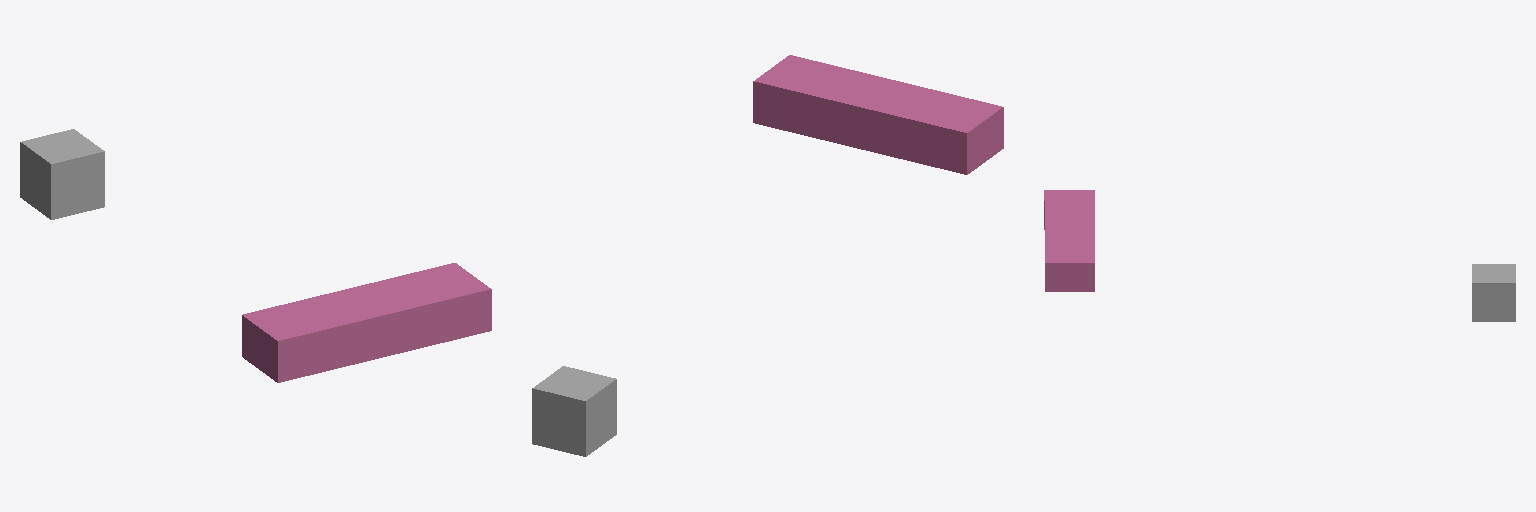
URDF robot description (polydog):
<?xml version="1.0"?>

<robot name="polydog">

  <!-- Define materials (optional) -->
  <material name="grey">
    <color rgba="0.5 0.5 0.5 1"/>
  </material>
  <material name="red">
    <color rgba="0.2 1 0.2 1"/>
  </material>
  <!-- Define the body link -->
  <link name="dummy0">
  </link>
  <link name="dummy1">
  </link>
  <link name="dummy2">
  </link>
  <link name="dummy3">
  </link>
  <link name="dummy4">
  </link>
  <link name="body">
    <visual>
      <geometry>
        <mesh filename="package://polydog_description/meshes/body.obj" scale="1 1 1"/>
      </geometry>
      <origin xyz="0 0 0" rpy="0 -1.5708 0"/>
      <material name="red"/>
    </visual>
    <collision>
      <geometry>
        <mesh filename="package://polydog_description/meshes/body_collision.obj" scale="1 1 1"/>
      </geometry>
      <origin xyz="0 0 0" rpy="0 -1.5708 0"/>
    </collision>
    <inertial>
       <mass value="3.568279"/>
       <origin xyz="0 0 0"/>
       <inertia ixx="+0.01664" ixy="+2.083e-06" ixz="+7.089e-06" iyy="+0.01339" iyz="-1.299e-05" izz="+0.00358"/>
     </inertial>
  </link>
  
    <link name="depth_camera_link">
    <visual name="depth_camera">
      <origin xyz="0 0 0" rpy="0 0 0"/>
      <geometry>
        <box size="0.0235 0.08 0.015" />
      </geometry>
    </visual>
    <collision name="depth_camera">
      <origin xyz="0 0 0" rpy="0 0 0"/>
      <geometry>
        <box size="0.0235 0.08 0.015" />
      </geometry>
    </collision>

    <inertial>
      <mass value="1e-5" />
      <origin xyz="0 0 0" rpy="0 0 0"/>
      <inertia ixx="1.0" ixy="1e-6" ixz="1e-6" iyy="1.0" iyz="1e-6" izz="1.0" />
    </inertial>
  </link>
  
    <link name="imu_sensor_link">
        <collision>
            <origin xyz="0 0 0" rpy="0 0 0"/>
            <geometry>
                <box size="0.02 0.02 0.02"/>
            </geometry>
        </collision>
        <visual>
            <origin xyz="0 0 0" rpy="0 0 0"/>
            <geometry>
                <box size="0.02 0.02 0.02"/>
            </geometry>
        </visual>
        <inertial>
            <mass value="0.001" />
            <origin xyz="0 0 0" rpy="0 0 0"/>
            <inertia ixx="0.00000015" ixy="0" ixz="0" iyy="0.00000015" iyz="0" izz="0.00000015" />
        </inertial>
    </link>
    
  <!-- Define the femur link -->
  <link name="case1">
    <visual>
      <geometry>
        <mesh filename="package://polydog_description/meshes/case.obj" scale="1 1 1"/>
      </geometry>
      <material name="grey"/>
      <origin xyz="0 0 0" rpy="0 0 1.5708"/>
    </visual>
    <collision>
      <geometry>
        <mesh filename="package://polydog_description/meshes/case_collision.obj" scale="1 1 1"/>
      </geometry>
      <origin xyz="0 0 0" rpy="0 0 1.5708"/>
    </collision>
    <inertial>
      <mass value="0.189739"/>
      <origin xyz="0 0 0"/>
      <inertia ixx="+0.00148" ixy="-4.937e-06" ixz="+4.053e-09" iyy="+0.00148" iyz="+4.698e-07" izz="+0.00025"/>
    </inertial>
  </link>
  <link name="case2">
    <visual>
      <geometry>
        <mesh filename="package://polydog_description/meshes/case.obj" scale="1 1 1"/>
      </geometry>
      <material name="grey"/>
      <origin xyz="0 0 0" rpy="0 0 1.5708"/>
    </visual>
    <collision>
      <geometry>
        <mesh filename="package://polydog_description/meshes/case_collision.obj" scale="1 1 1"/>
      </geometry>
      <origin xyz="0 0 0" rpy="0 0 1.5708"/>
    </collision>
    <inertial>
      <mass value="0.189739"/>
      <origin xyz="0 0 0"/>
      <inertia ixx="+0.00148" ixy="-4.937e-06" ixz="+4.053e-09" iyy="+0.00148" iyz="+4.698e-07" izz="+0.00025"/>
    </inertial>
  </link>
  <link name="case3">

    <visual>
      <geometry>
        <mesh filename="package://polydog_description/meshes/case.obj" scale="1 1 1"/>
      </geometry>
      <material name="grey"/>
      <origin xyz="0 0 0" rpy="0 0 1.5708"/>
    </visual>
    <collision>
      <geometry>
        <mesh filename="package://polydog_description/meshes/case_collision.obj" scale="1 1 1"/>
      </geometry>
      <origin xyz="0 0 0" rpy="0 0 1.5708"/>
    </collision>
    <inertial>
      <mass value="0.189739"/>
      <origin xyz="0 0 0"/>
      <inertia ixx="+0.00148" ixy="-4.937e-06" ixz="+4.053e-09" iyy="+0.00148" iyz="+4.698e-07" izz="+0.00025"/>
    </inertial>
  </link>
  <link name="case4">
    <visual>
      <geometry>
        <mesh filename="package://polydog_description/meshes/case.obj" scale="1 1 1"/>
      </geometry>
      <material name="grey"/>
      <origin xyz="0 0 0" rpy="0 0 1.5708"/>
    </visual>
    <collision>
      <geometry>
        <mesh filename="package://polydog_description/meshes/case_collision.obj" scale="1 1 1"/>
      </geometry>
      <origin xyz="0 0 0" rpy="0 0 1.5708"/>
    </collision>
    <inertial>
      <mass value="0.189739"/>
      <origin xyz="0 0 0"/>
      <inertia ixx="+0.00148" ixy="-4.937e-06" ixz="+4.053e-09" iyy="+0.00148" iyz="+4.698e-07" izz="+0.00025"/>
    </inertial>
  </link>
  <link name="femur4">

    <visual>
      <geometry>
        <mesh filename="package://polydog_description/meshes/femur.obj" scale="1 1 1"/>
      </geometry>
      <origin xyz="0 0.054 -0.008" rpy="-0.15 0 0"/>
    </visual>
    <collision>
      <geometry>
        <mesh filename="package://polydog_description/meshes/femur_collision.obj" scale="1 1 1"/>
      </geometry>
      <origin xyz="0 0.054 -0.008" rpy="-0.15 0 0"/>
    </collision>
    <inertial>
      <mass value="0.18042"/>
      <origin xyz="0 0 0"/>
      <inertia ixx="+0.00198" ixy="+6.247e-05" ixz="-9.408e-06" iyy="+0.00028" iyz="+0.00024" izz="+0.00182"/>
    </inertial>
  </link>
  <link name="femur3">

    <visual>
      <geometry>
        <mesh filename="package://polydog_description/meshes/femur.obj" scale="1 1 1"/>
      </geometry>
      <material name="red"/>
      <origin xyz="0 0.054 -0.008" rpy="-0.15 0 0"/>
    </visual>
    <collision>
      <geometry>
        <mesh filename="package://polydog_description/meshes/femur_collision.obj" scale="1 1 1"/>
      </geometry>
      <origin xyz="0 0.054 -0.008" rpy="-0.15 0 0"/>
    </collision>
    <inertial>
      <mass value="0.18042"/>
      <origin xyz="0 0 0"/>
      <inertia ixx="+0.00198" ixy="+6.247e-05" ixz="-9.408e-06" iyy="+0.00028" iyz="+0.00024" izz="+0.00182"/>
    </inertial>
  </link>
  <link name="femur2">

    <visual>
      <geometry>
        <mesh filename="package://polydog_description/meshes/femur.obj" scale="1 1 1"/>
      </geometry>
      <material name="red"/>
      <origin xyz="0 0.054 -0.008" rpy="-0.15 0 0"/>
    </visual>
    <collision>
      <geometry>
        <mesh filename="package://polydog_description/meshes/femur_collision.obj" scale="1 1 1"/>
      </geometry>
      <origin xyz="0 0.054 -0.008" rpy="-0.15 0 0"/>
    </collision>
    <inertial>
      <mass value="0.18042"/>
      <origin xyz="0 0 0"/>
      <inertia ixx="+0.00198" ixy="+6.247e-05" ixz="-9.408e-06" iyy="+0.00028" iyz="+0.00024" izz="+0.00182"/>
    </inertial>
  </link>
  <link name="femur1">

    <visual>
      <geometry>
        <mesh filename="package://polydog_description/meshes/femur.obj" scale="1 1 1"/>
      </geometry>
      <material name="red"/>
      <origin xyz="0 0.054 -0.008" rpy="-0.15 0 0"/>
    </visual>
    <collision>
      <geometry>
        <mesh filename="package://polydog_description/meshes/femur_collision.obj" scale="1 1 1"/>
      </geometry>
      <origin xyz="0 0.054 -0.008" rpy="-0.15 0 0"/>
    </collision>
    <inertial>
      <mass value="0.18042"/>
      <origin xyz="0 0 0"/>
      <inertia ixx="+0.00198" ixy="+6.247e-05" ixz="-9.408e-06" iyy="+0.00028" iyz="+0.00024" izz="+0.00182"/>
    </inertial>
  </link>
  <link name="tibia1">

    <visual>
      <geometry>
        <mesh filename="package://polydog_description/meshes/tibia.obj" scale="1 1 1"/>
      </geometry>
      <material name="grey"/>
      <origin xyz="0.004 -0.004 -0.04" rpy="0 0.05 -0.7"/>
    </visual>
    <collision>
      <geometry>
        <mesh filename="package://polydog_description/meshes/tibia_collision.obj" scale="1 1 1"/>
      </geometry>
      <origin xyz="0.004 -0.004 -0.04" rpy="0 0.05 -0.7"/>
    </collision>
    <inertial>
      <mass value="0.083449"/>
      <origin xyz="-0.00019 -0.00223 -0.01482"/>
      <inertia ixx="+0.00219" ixy="+3.703e-07" ixz="+4.672e-06" iyy="+0.00214" iyz="+2.869e-05" izz="+1.000e-04"/>
    </inertial>
  </link>
  <link name="tibia2">

    <visual>
      <geometry>
        <mesh filename="package://polydog_description/meshes/tibia.obj" scale="1 1 1"/>
      </geometry>
      <material name="grey"/>
      <origin xyz="0.004 -0.004 -0.04" rpy="0 0.05 -0.7"/>
    </visual>
    <collision>
      <geometry>
        <mesh filename="package://polydog_description/meshes/tibia_collision.obj" scale="1 1 1"/>
      </geometry>
      <origin xyz="0.004 -0.004 -0.04" rpy="0 0.05 -0.7"/>
    </collision>
    <inertial>
      <mass value="0.083449"/>
      <origin xyz="-0.00019 -0.00223 -0.01482"/>
      <inertia ixx="+0.00219" ixy="+3.703e-07" ixz="+4.672e-06" iyy="+0.00214" iyz="+2.869e-05" izz="+1.000e-04"/>
    </inertial>
  </link>
  <link name="tibia3">

    <visual>
      <geometry>
        <mesh filename="package://polydog_description/meshes/tibia.obj" scale="1 1 1"/>
      </geometry>
      <material name="grey"/>
      <origin xyz="0.004 -0.004 -0.04" rpy="0 0.05 -0.7"/>
    </visual>
    <collision>
      <geometry>
        <mesh filename="package://polydog_description/meshes/tibia_collision.obj" scale="1 1 1"/>
      </geometry>
      <origin xyz="0.004 -0.004 -0.04" rpy="0 0.05 -0.7"/>
    </collision>
    <inertial>
      <mass value="0.083449"/>
      <origin xyz="-0.00019 -0.00223 -0.01482"/>
      <inertia ixx="+0.00219" ixy="+3.703e-07" ixz="+4.672e-06" iyy="+0.00214" iyz="+2.869e-05" izz="+1.000e-04"/>
    </inertial>
  </link>
  <link name="tibia4">

    <visual>
      <geometry>
        <mesh filename="package://polydog_description/meshes/tibia.obj" scale="1 1 1"/>
      </geometry>
      <material name="grey"/>
      <origin xyz="0.004 -0.004 -0.04" rpy="0 0.05 -0.7"/>
    </visual>
    <collision>
      <geometry>
        <mesh filename="package://polydog_description/meshes/tibia_collision.obj" scale="1 1 1"/>
      </geometry>
      <origin xyz="0.004 -0.004 -0.04" rpy="0 0.05 -0.7"/>
    </collision>
    <inertial>
      <mass value="0.083449"/>
      <origin xyz="-0.00019 -0.00223 -0.01482"/>
      <inertia ixx="+0.00219" ixy="+3.703e-07" ixz="+4.672e-06" iyy="+0.00214" iyz="+2.869e-05" izz="+1.000e-04"/>
    </inertial>
  </link>



  <!-- Define the joints -->
  <joint name="depth_camera_joint" type="fixed">
    <axis xyz="0 0 0" />
    <origin xyz="0 -0.197 0.0265" rpy="0 0 -1.57"/>
    <parent link="body"/>
    <child link="depth_camera_link"/>
  </joint>
  <joint name="imu_sensor_joint" type="fixed">
    <axis xyz="0 0 0" />
    <origin xyz="0 0 0" rpy="0 0 0"/>
    <parent link="body"/>
    <child link="imu_sensor_link"/>
  </joint>
  <joint name="RL1_joint" type="revolute">
    <axis xyz="0 0 1"  />
    <limit effort="10" lower="-3" upper="+3" velocity="6" />
    <parent link="body"/>
    <child link="case1"/>
    <origin xyz="0.084 0.122 0" rpy="1.5708 0 0"/>
  </joint>
  <joint name="FL1_joint" type="revolute">
    <axis xyz="0 0 1"  />
    <limit effort="10" lower="-3" upper="3" velocity="6" />
    <parent link="body"/>
    <child link="case2"/>
    <origin xyz="0.084 -0.122 0" rpy="1.5708 0 0"/>
  </joint>
  <joint name="FR1_joint" type="revolute">
    <axis xyz="0 0 1"  />
    <limit effort="10" lower="-3" upper="3" velocity="6" />
    <parent link="body"/>
    <child link="case3"/>
    <origin xyz="-0.084 -0.122 0" rpy="1.5708 0 3.14"/>
  </joint>
  <joint name="RR1_joint" type="revolute">
    <axis xyz="0 0 1"  />
    <limit effort="10" lower="-3" upper="3" velocity="6" />
    <parent link="body"/>
    <child link="case4"/>
    <origin xyz="-0.084 0.122 0" rpy="1.5708 0 3.14"/>
  </joint>
  <joint name="RR2_joint" type="revolute">
    <axis xyz="1 0 0"  />
    <limit effort="10" lower="-3" upper="3" velocity="6" />
    <parent link="case4"/>
    <child link="femur4"/>
    <origin xyz="0.035 0 0.018" rpy="3.14 3.14 0"/>
  </joint>
  <joint name="FR2_joint" type="revolute">
    <axis xyz="1 0 0"  />
    <limit effort="10" lower="-3" upper="3" velocity="6" />
    <parent link="case3"/>
    <child link="femur3"/>
    <origin xyz="0.035 0 -0.018" rpy="3.14 3.14 0"/>
  </joint>
  <joint name="FL2_joint" type="revolute">
    <axis xyz="1 0 0"  />
    <limit effort="10" lower="-3" upper="3" velocity="6" />
    <parent link="case2"/>
    <child link="femur2"/>
    <origin xyz="0.035 0 0.018" rpy="3.14 3.14 0"/>
  </joint>
  <joint name="RL2_joint" type="revolute">
    <axis xyz="1 0 0"  />
    <limit effort="10" lower="-3" upper="3" velocity="6" />
    <parent link="case1"/>
    <child link="femur1"/>
    <origin xyz="0.035 0 -0.018" rpy="-3.14 3.14 0"/>
  </joint>
  <joint name="RL3_joint" type="revolute">
    <axis xyz="1 0 0"  />
    <limit effort="10" lower="-3" upper="3" velocity="6" />
    <parent link="femur1"/>
    <child link="tibia1"/>
    <origin xyz="-0.0075 0.129 0.0015" rpy="1.57 0 0"/>
  </joint>
  <joint name="FL3_joint" type="revolute">
    <axis xyz="1 0 0"  />
    <limit effort="10" lower="-3" upper="3" velocity="6" />
    <parent link="femur2"/>
    <child link="tibia2"/>
    <origin xyz="-0.0075 0.129 0.0015" rpy="1.57 0 0"/>
  </joint>
  <joint name="FR3_joint" type="revolute">
    <axis xyz="1 0 0"  />
    <limit effort="10" lower="-3" upper="3" velocity="6" />
    <parent link="femur3"/>
    <child link="tibia3"/>
    <origin xyz="-0.0075 0.129 0.0015" rpy="1.57 3.14 0"/>
  </joint>
  <joint name="RR3_joint" type="revolute">
    <axis xyz="1 0 0"  />
    <limit effort="10" lower="-3" upper="3" velocity="6" />
    <parent link="femur4"/>
    <child link="tibia4"/>
    <origin xyz="-0.0075 0.129 0.0015" rpy="1.57 3.14 0"/>
  </joint>
  <joint name="dummy0_to_body" type="fixed">
    <parent link="dummy0"/>
    <child link="body"/>
  </joint>
  <joint name="tibia1_to_dummy1" type="fixed">
    <parent link="tibia1"/>
    <child link="dummy1"/>
    <origin xyz="0 -0.017 -0.125" rpy="3.14 0 0"/>
  </joint>
  <joint name="tibia2_to_dummy2" type="fixed">
    <parent link="tibia2"/>
    <child link="dummy2"/>
    <origin xyz="0 -0.017 -0.125" rpy="3.14 0 0"/>
  </joint>
  <joint name="tibia3_to_dummy3" type="fixed">
    <parent link="tibia3"/>
    <child link="dummy3"/>
    <origin xyz="0 -0.017 -0.125" rpy="3.14 0 0"/>
  </joint>
  <joint name="tibia4_to_dummy4" type="fixed">
    <parent link="tibia4"/>
    <child link="dummy4"/>
    <origin xyz="0 -0.017 -0.125" rpy="3.14 0 0"/>
  </joint>
  <gazebo reference="body">
    <material>Gazebo/Grey</material>
  </gazebo>
  <gazebo reference="case1">
    <material>Gazebo/Red</material>
  </gazebo>
  <gazebo reference="case2">
    <material>Gazebo/Red</material>
  </gazebo>
  <gazebo reference="case3">
    <material>Gazebo/Red</material>
  </gazebo>
  <gazebo reference="case4">
    <material>Gazebo/Red</material>
  </gazebo>
  <gazebo reference="femur1">
    <material>Gazebo/Red</material>
  </gazebo>
  <gazebo reference="femur2">
    <material>Gazebo/Red</material>
  </gazebo>
  <gazebo reference="femur3">
    <material>Gazebo/Red</material>
  </gazebo>
  <gazebo reference="femur4">
    <material>Gazebo/Red</material>
  </gazebo>
  <gazebo reference="tibia1">
    <material>Gazebo/Black</material>
  </gazebo>
  <gazebo reference="tibia2">
    <material>Gazebo/Black</material>
  </gazebo>
  <gazebo reference="tibia3">
    <material>Gazebo/Black</material>
  </gazebo>
  <gazebo reference="tibia4">
    <material>Gazebo/Black</material>
  </gazebo>
  <gazebo reference="imu_sensor_link">
    <material>Gazebo/Red</material>
  </gazebo>
  
  <gazebo reference="depth_camera_link">
    <sensor type="depth" name="camera">
      <origin xyz="0 0 0" rpy="0 0 0"/>
      <visualize>1</visualize>
      <update_rate>40</update_rate>

        <plugin name="camera_plugin" filename="libgazebo_ros_openni_kinect.so">
          <baseline>0.2</baseline>
          <alwaysOn>true</alwaysOn>
          <!-- Keep this zero, update_rate in the parent <sensor> tag
            will control the frame rate. -->
          <updateRate>0.0</updateRate>
          <cameraName>camera_ir</cameraName>
          <robotNamespace>/</robotNamespace>
          <imageTopicName>/camera/depth/image_raw</imageTopicName>
          <cameraInfoTopicName>/camera/depth/camera_info</cameraInfoTopicName>
          <depthImageTopicName>/camera/depth/image_raw</depthImageTopicName>
          <depthImageInfoTopicName>/camera/depth/camera_info</depthImageInfoTopicName>
          <pointCloudTopicName>/camera/depth/points</pointCloudTopicName>
          <frameName>camera_image_link</frameName>
          <pointCloudCutoff>0.05</pointCloudCutoff>
          <distortionK1>0</distortionK1>
          <distortionK2>0</distortionK2>
          <distortionK3>0</distortionK3>
          <distortionT1>0</distortionT1>
          <distortionT2>0</distortionT2>
          <CxPrime>0</CxPrime>
          <Cx>0</Cx>
          <Cy>0</Cy>
          <focalLength>0</focalLength>
          <hackBaseline>0</hackBaseline>
        </plugin>
    </sensor>
    <static>true</static>
  </gazebo>
  
  <gazebo reference="imu_sensor_link">
    <gravity>1</gravity>
    <sensor name="imu_sensor" type="imu">
      <always_on>1</always_on>
      <update_rate>100</update_rate>
      <visualize>1</visualize>
      <topic>__default_topic__</topic>
      <plugin filename="libgazebo_ros_imu_sensor.so" name="imu_plugin">
        <topicName>imu</topicName>
        <bodyName>imu_sensor_link</bodyName>
        <updateRateHZ>10.0</updateRateHZ>
        <gaussianNoise>0.0</gaussianNoise>
        <xyzOffset>0 0 0</xyzOffset>
        <rpyOffset>0 0 0</rpyOffset>
        <frameName>imu_sensor_link</frameName>
        <initialOrientationAsReference>0</initialOrientationAsReference>
      </plugin>
      <pose>0 0 0 0 0 0</pose>
    </sensor>
  </gazebo>
  <gazebo>
    <plugin name="gazebo_ros_control" filename="libgazebo_ros_control.so">
      <robotNamespace>/polydog_controller</robotNamespace>
    </plugin>
  </gazebo>
  <gazebo>
    <plugin name="joint_state_publisher" filename="libgazebo_ros_joint_state_publisher.so">
      <robotNamespace>/polydog_controller</robotNamespace>
        <jointName>FR1_joint, FR2_joint, FR3_joint, FL1_joint, FL2_joint, FL3_joint, RR1_joint, RR2_joint, RR3_joint, RL1_joint, RL2_joint, RL3_joint</jointName>
        <updateRate>100</updateRate>
    </plugin>
  </gazebo>
  <transmission name="trans11">
    <type>transmission_interface/SimpleTransmission</type>
    <joint name="FR1_joint">
      <hardwareInterface>hardware_interface/EffortJointInterface</hardwareInterface>
    </joint>
    <actuator name="motor11">
      <mechanicalReduction>5</mechanicalReduction>
      <hardwareInterface>hardware_interface/EffortJointInterface</hardwareInterface>
    </actuator>
  </transmission>
  <transmission name="trans12">
    <type>transmission_interface/SimpleTransmission</type>
    <joint name="FR2_joint">
      <hardwareInterface>hardware_interface/EffortJointInterface</hardwareInterface>
    </joint>
    <actuator name="motor12">
      <mechanicalReduction>5</mechanicalReduction>
      <hardwareInterface>hardware_interface/EffortJointInterface</hardwareInterface>
    </actuator>
  </transmission>
  <transmission name="trans13">
    <type>transmission_interface/SimpleTransmission</type>
    <joint name="FR3_joint">
      <hardwareInterface>hardware_interface/EffortJointInterface</hardwareInterface>
    </joint>
    <actuator name="motor13">
      <mechanicalReduction>5</mechanicalReduction>
      <hardwareInterface>hardware_interface/EffortJointInterface</hardwareInterface>
    </actuator>
  </transmission>
  <transmission name="trans21">
    <type>transmission_interface/SimpleTransmission</type>
    <joint name="FL1_joint">
      <hardwareInterface>hardware_interface/EffortJointInterface</hardwareInterface>
    </joint>
    <actuator name="motor21">
      <mechanicalReduction>5</mechanicalReduction>
      <hardwareInterface>hardware_interface/EffortJointInterface</hardwareInterface>
    </actuator>
  </transmission>
  <transmission name="trans22">
    <type>transmission_interface/SimpleTransmission</type>
    <joint name="FL2_joint">
      <hardwareInterface>hardware_interface/EffortJointInterface</hardwareInterface>
    </joint>
    <actuator name="motor22">
      <mechanicalReduction>5</mechanicalReduction>
      <hardwareInterface>hardware_interface/EffortJointInterface</hardwareInterface>
    </actuator>
  </transmission>
  <transmission name="trans23">
    <type>transmission_interface/SimpleTransmission</type>
    <joint name="FL3_joint">
      <hardwareInterface>hardware_interface/EffortJointInterface</hardwareInterface>
    </joint>
    <actuator name="motor23">
      <mechanicalReduction>5</mechanicalReduction>
      <hardwareInterface>hardware_interface/EffortJointInterface</hardwareInterface>
    </actuator>
  </transmission>
  <transmission name="trans31">
    <type>transmission_interface/SimpleTransmission</type>
    <joint name="RR1_joint">
      <hardwareInterface>hardware_interface/EffortJointInterface</hardwareInterface>
    </joint>
    <actuator name="motor31">
      <mechanicalReduction>5</mechanicalReduction>
      <hardwareInterface>hardware_interface/EffortJointInterface</hardwareInterface>
    </actuator>
  </transmission>
  <transmission name="trans32">
    <type>transmission_interface/SimpleTransmission</type>
    <joint name="RR2_joint">
      <hardwareInterface>hardware_interface/EffortJointInterface</hardwareInterface>
    </joint>
    <actuator name="motor32">
      <mechanicalReduction>5</mechanicalReduction>
      <hardwareInterface>hardware_interface/EffortJointInterface</hardwareInterface>
    </actuator>
  </transmission>
  <transmission name="trans33">
    <type>transmission_interface/SimpleTransmission</type>
    <joint name="RR3_joint">
      <hardwareInterface>hardware_interface/EffortJointInterface</hardwareInterface>
    </joint>
    <actuator name="motor33">
      <mechanicalReduction>5</mechanicalReduction>
      <hardwareInterface>hardware_interface/EffortJointInterface</hardwareInterface>
    </actuator>
  </transmission>
  <transmission name="trans41">
    <type>transmission_interface/SimpleTransmission</type>
    <joint name="RL1_joint">
      <hardwareInterface>hardware_interface/EffortJointInterface</hardwareInterface>
    </joint>
    <actuator name="motor41">
      <mechanicalReduction>5</mechanicalReduction>
      <hardwareInterface>hardware_interface/EffortJointInterface</hardwareInterface>
    </actuator>
  </transmission>
  <transmission name="trans42">
    <type>transmission_interface/SimpleTransmission</type>
    <joint name="RL2_joint">
      <hardwareInterface>hardware_interface/EffortJointInterface</hardwareInterface>
    </joint>
    <actuator name="motor42">
      <mechanicalReduction>5</mechanicalReduction>
      <hardwareInterface>hardware_interface/EffortJointInterface</hardwareInterface>
    </actuator>
  </transmission>
  <transmission name="trans43">
    <type>transmission_interface/SimpleTransmission</type>
    <joint name="RL3_joint">
      <hardwareInterface>hardware_interface/EffortJointInterface</hardwareInterface>
    </joint>
    <actuator name="motor43">
      <mechanicalReduction>5</mechanicalReduction>
      <hardwareInterface>hardware_interface/EffortJointInterface</hardwareInterface>
    </actuator>
  </transmission>




</robot>

--- What the picture shows (computed from the rendered views, not written in the file) ---
The picture shows the robot from 3 angles, left to right: view 1: azimuth 30°, elevation 25°; view 2: azimuth 150°, elevation 25°; view 3: azimuth 270°, elevation 25°; orthographic projection.
Robot: polydog — 20 links, 19 joints (12 revolute, 7 fixed); root link dummy0; default pose: every joint at zero.
Links seen in each view (by area): view 1: depth_camera_link, imu_sensor_link; view 2: depth_camera_link, imu_sensor_link; view 3: depth_camera_link, imu_sensor_link.
Boxes of the visible links, x1,y1,x2,y2 form: depth_camera_link: [242, 263, 491, 382]; imu_sensor_link: [20, 129, 104, 219]; depth_camera_link: [753, 55, 1003, 174]; imu_sensor_link: [532, 366, 616, 456]; depth_camera_link: [1044, 190, 1094, 291]; imu_sensor_link: [1472, 264, 1515, 321].
Bounding box of the posed robot: 0.08 × 0.2188 × 0.044 m (x, y, z).
Meshes: 4 distinct files referenced, 0 mesh visuals loaded (none loaded); not drawn: 13 (reference not matched to a file when rendering).